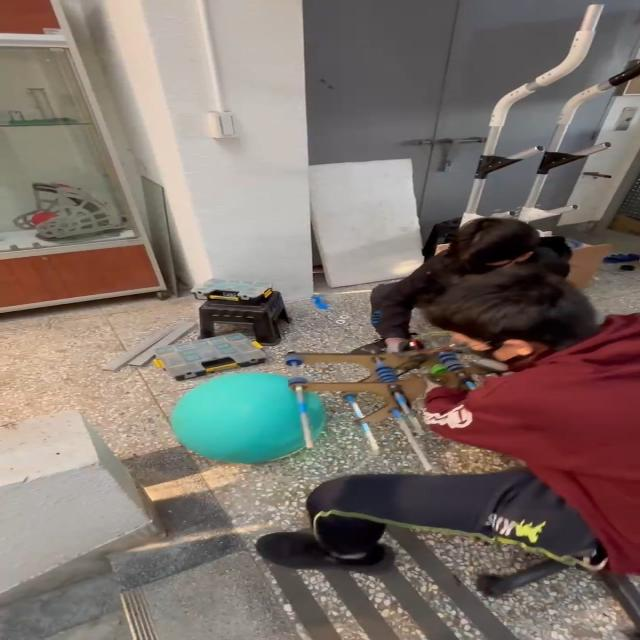ALGAE: (167, 371, 327, 465)
